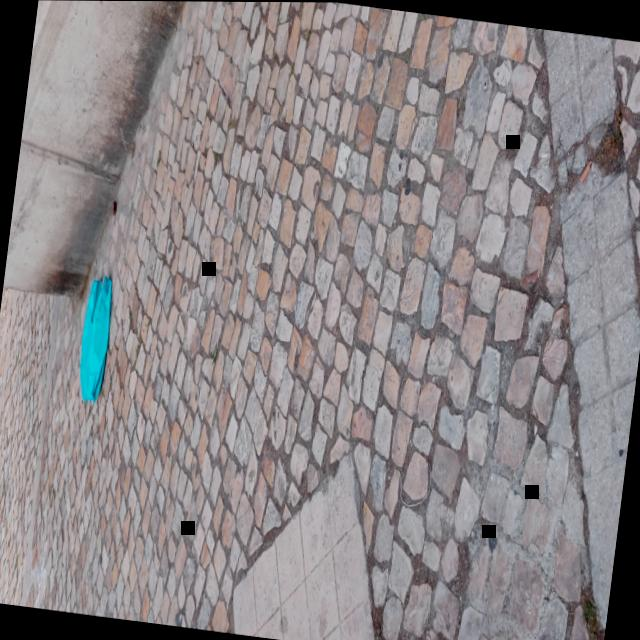Cigarette: (518, 268, 537, 288), (578, 160, 589, 183)
Single-use carrier bag: (79, 275, 110, 403)
